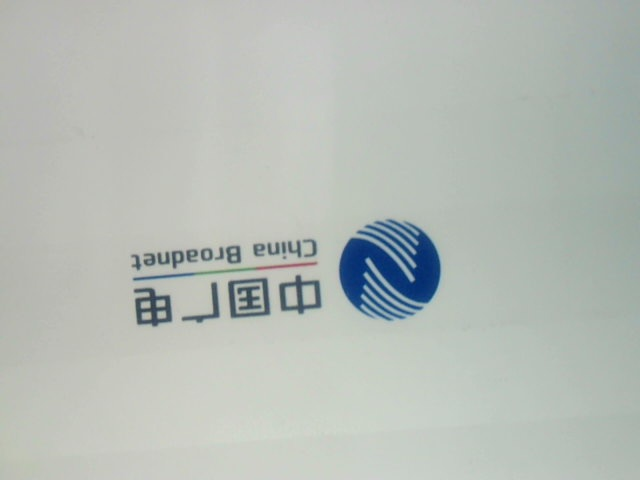AW_ChinaBroadNet: (99, 155, 452, 355)
